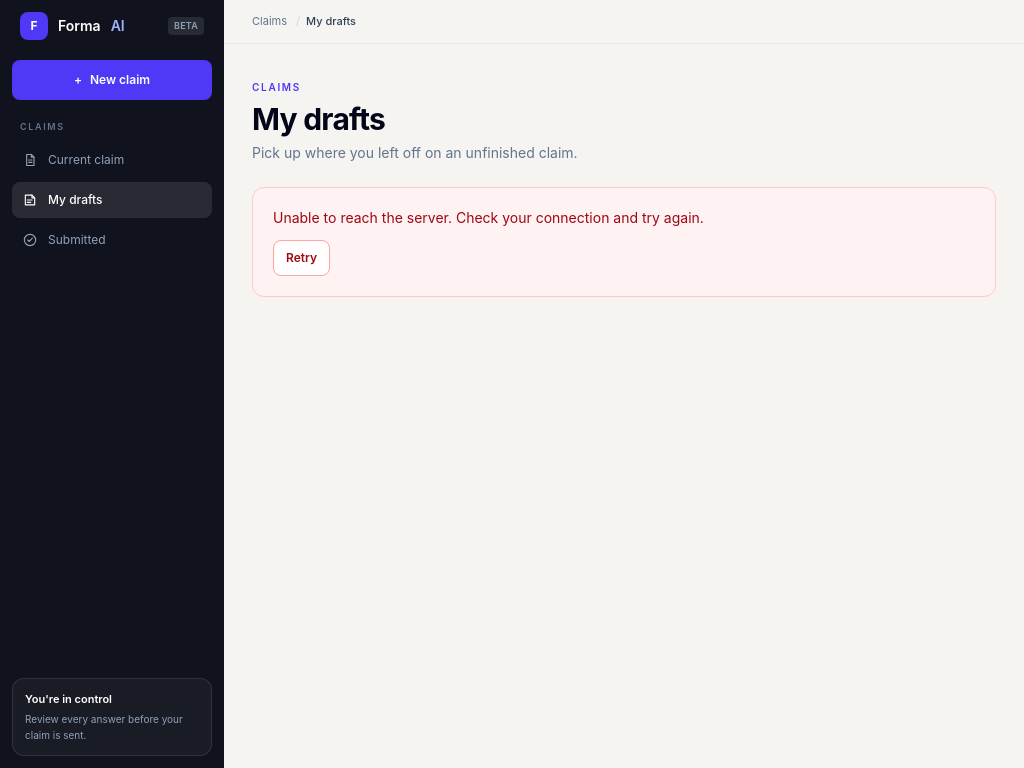
Test: DraftsPage › shows a network error and retries successfully
The image size is (1024, 768).
Expected: the text "Unable to reach the server. Check your connection and try again." is shown, x1=273 y1=209 x2=704 y2=226
Click the button "Retry".
click(302, 258)  # box x1=273 y1=240 x2=330 y2=276
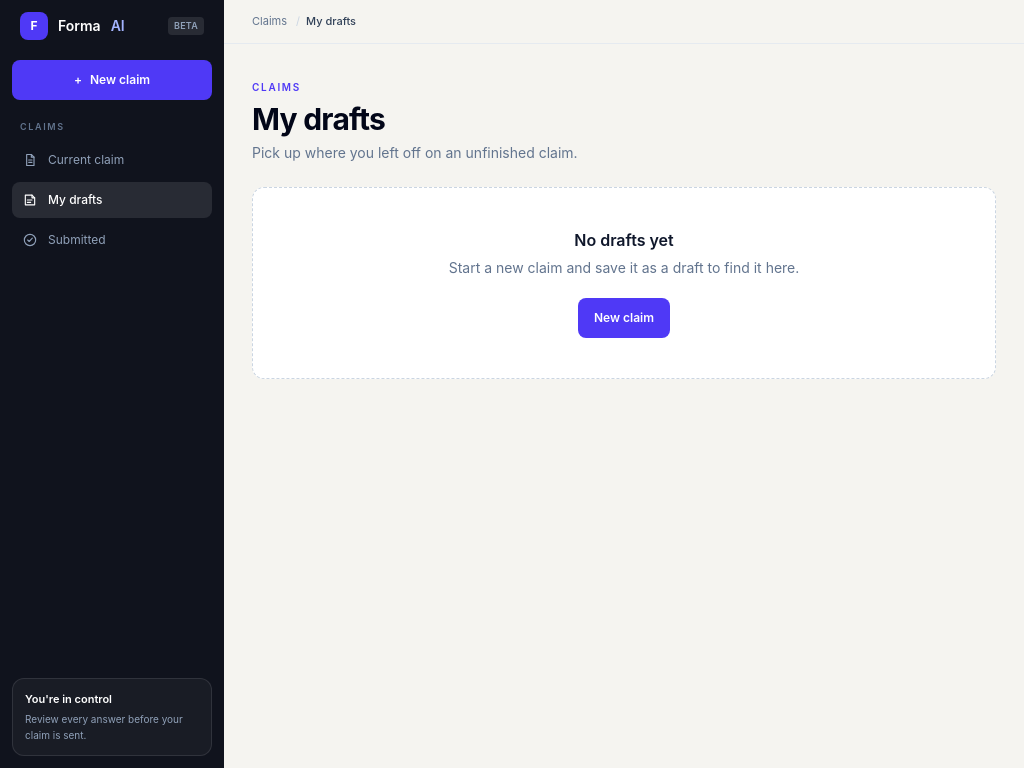
Result: the heading "No drafts yet" is shown at x1=574 y1=230 x2=674 y2=250
